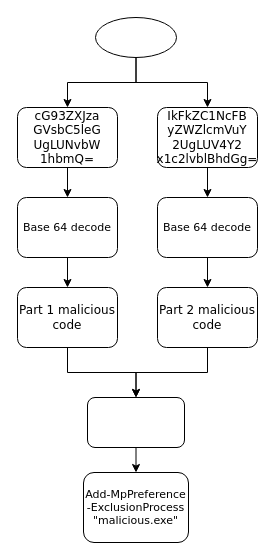
Image size: 275x560. Some labels were removed from this diagram. The centre of each missing label's shape, as x and y in pixels:
"Reconstruct command" goes at (135,422).
"start" goes at (135,37).
